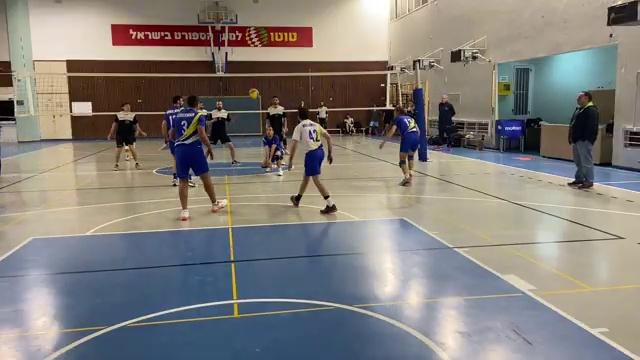ball: (246, 85, 262, 103)
